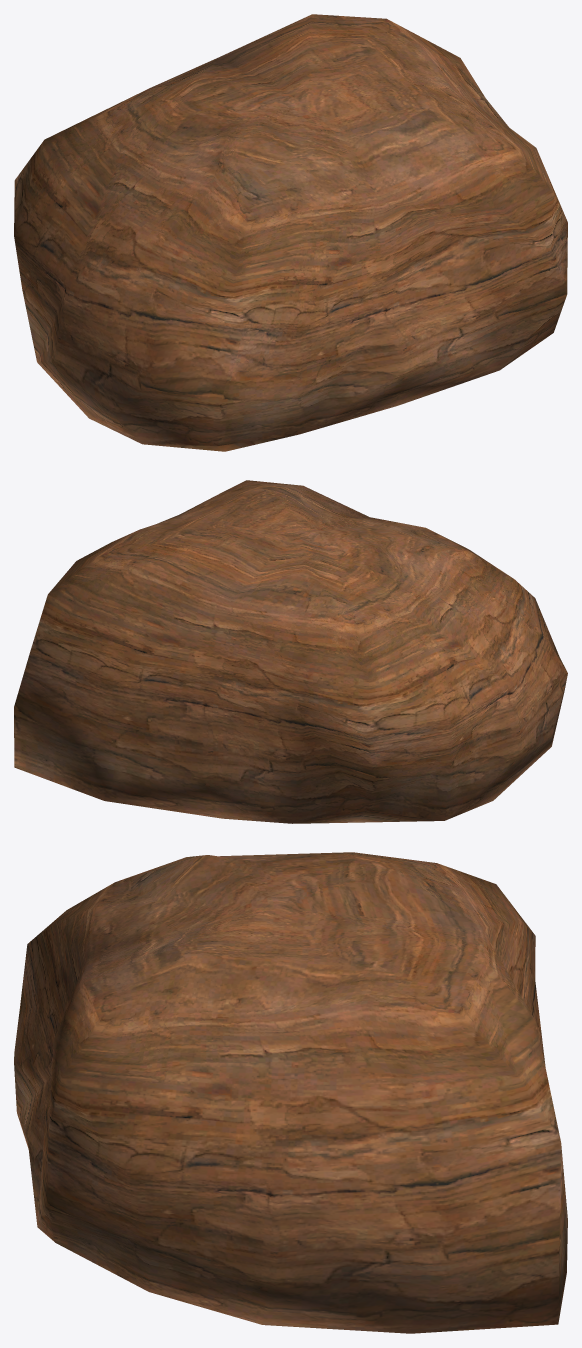
The model's file is rock_tatt_jundland_boulder_a2_l1.fbx.
The picture shows the model from 3 angles, top to bottom: view 1: azimuth 30°, elevation 25°; view 2: azimuth 150°, elevation 25°; view 3: azimuth 270°, elevation 25°; orthographic projection. The views are drawn at different scales.
Parts seen in each view (by area): view 1: mesh_node; view 2: mesh_node; view 3: mesh_node.
Part boxes in pixels (x1,y1,x2,y2): mesh_node: (14, 14, 567, 451); mesh_node: (14, 480, 567, 823); mesh_node: (14, 852, 567, 1333).
Bounding box in the file's own units: 3.16 × 1.63 × 2.54.
